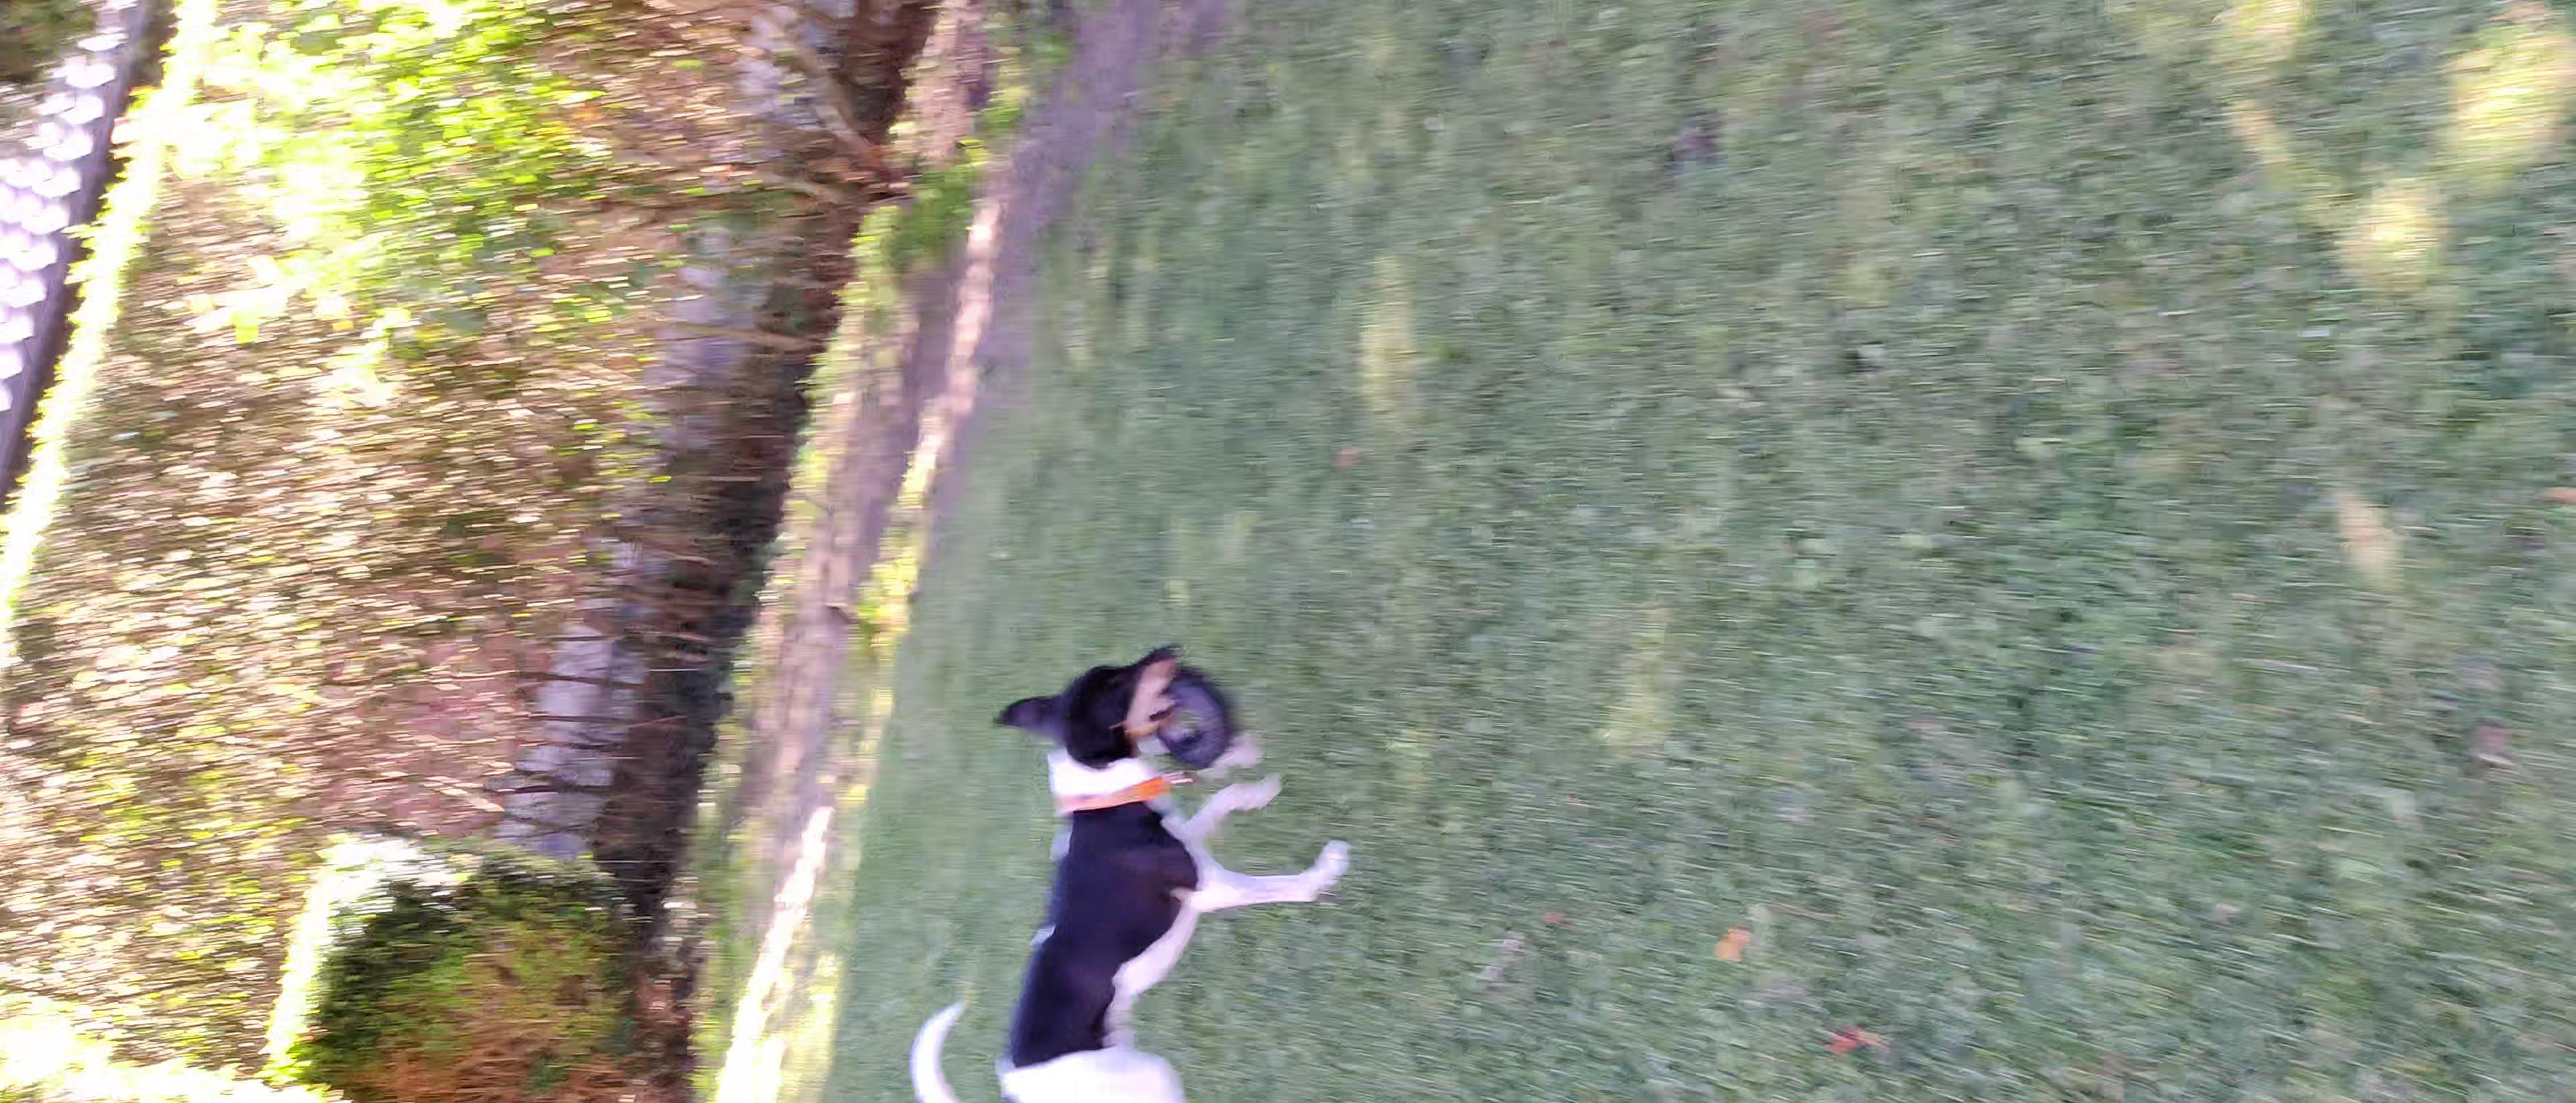Dog: (899, 631, 1364, 1103)
